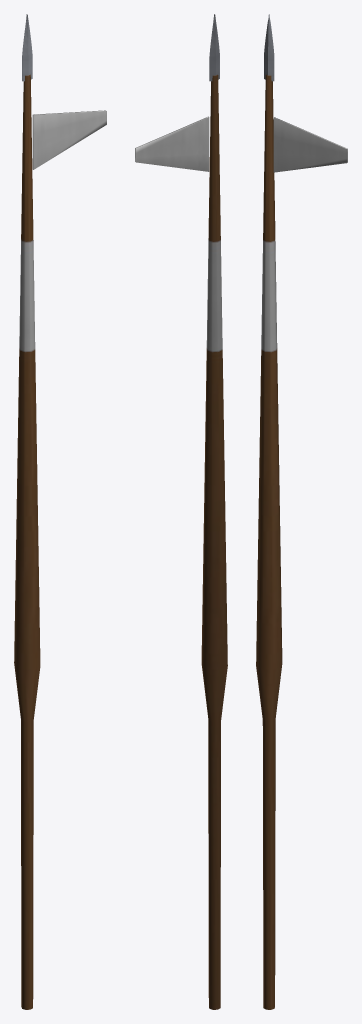
The model's file is lance-cavalerie.glb.
3 renders of one model, left to right at view 1: azimuth 30°, elevation 25°; view 2: azimuth 210°, elevation 25°; view 3: azimuth 330°, elevation 25°, orthographic.
Parts seen in each view (by area): view 1: lance-cavalerie; view 2: lance-cavalerie; view 3: lance-cavalerie.
Part boxes in pixels (x1,y1,x2,y2): lance-cavalerie: (14, 14, 106, 1009); lance-cavalerie: (135, 14, 227, 1009); lance-cavalerie: (256, 14, 347, 1009).
Size of the model in its own units: 0.345 by 3.62 by 0.09.
1 material, 1 textured.
